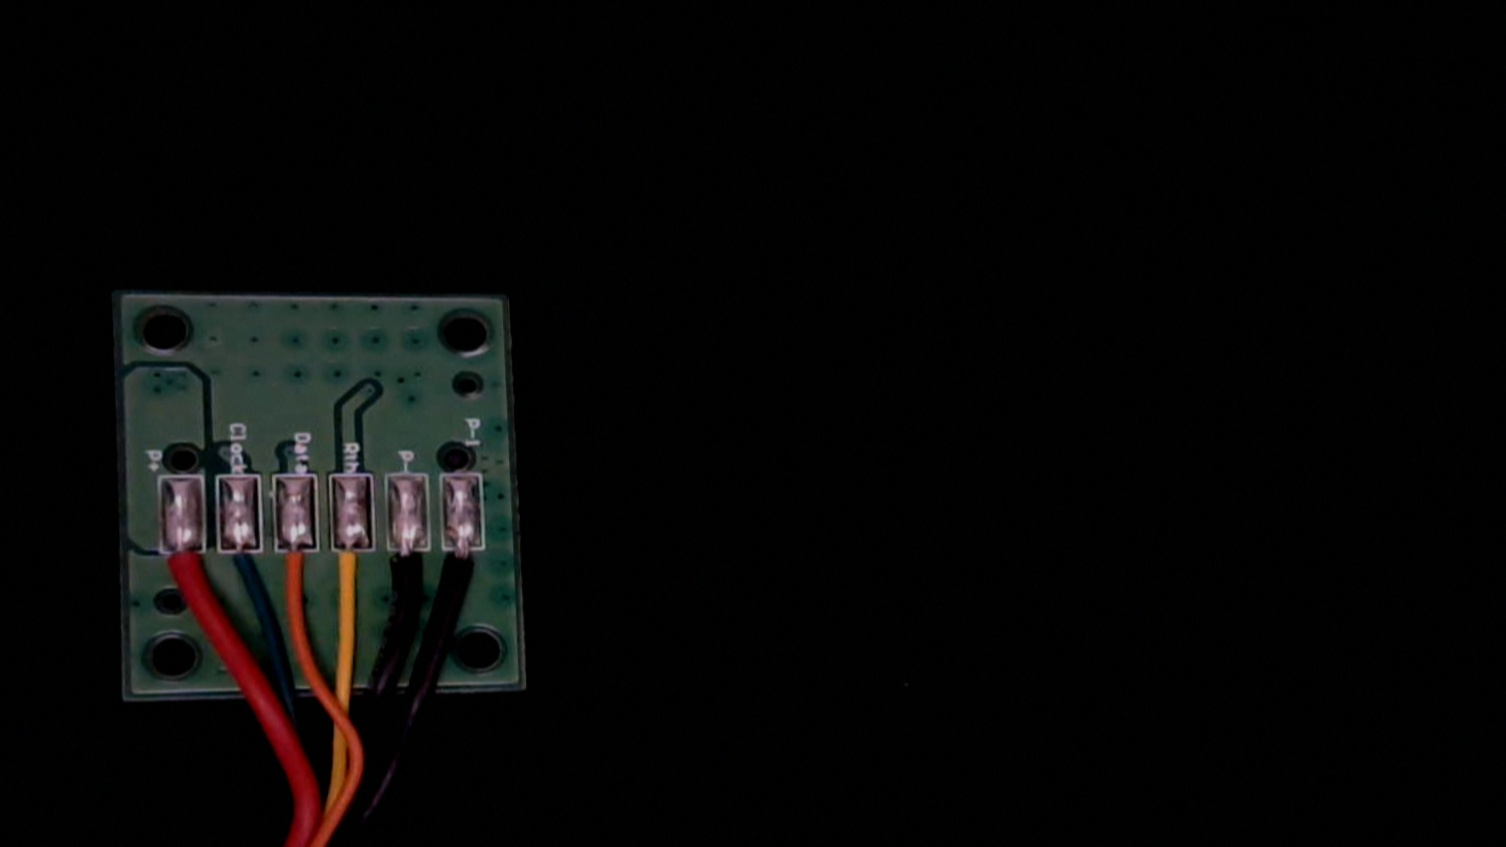Black: (386, 531, 432, 605)
Black1: (442, 526, 491, 607)
Green: (217, 528, 271, 612)
Orange: (273, 528, 324, 615)
Red: (158, 531, 210, 615)
Yellow: (327, 532, 379, 621)
